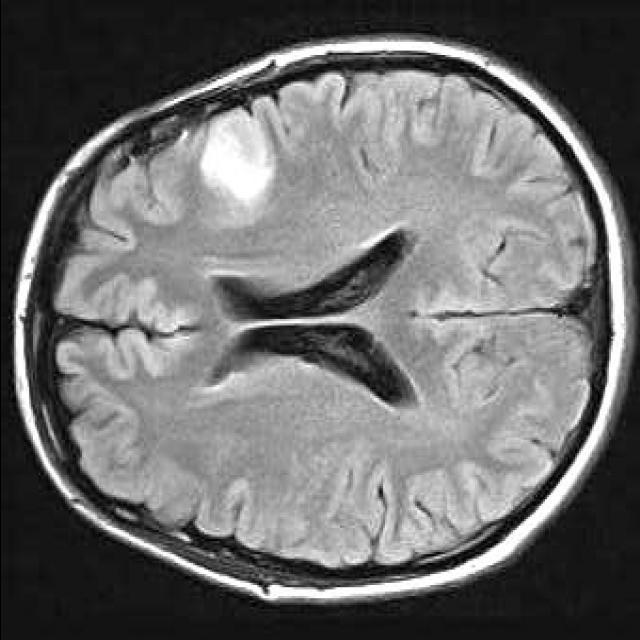tumor: (198, 99, 277, 209)
